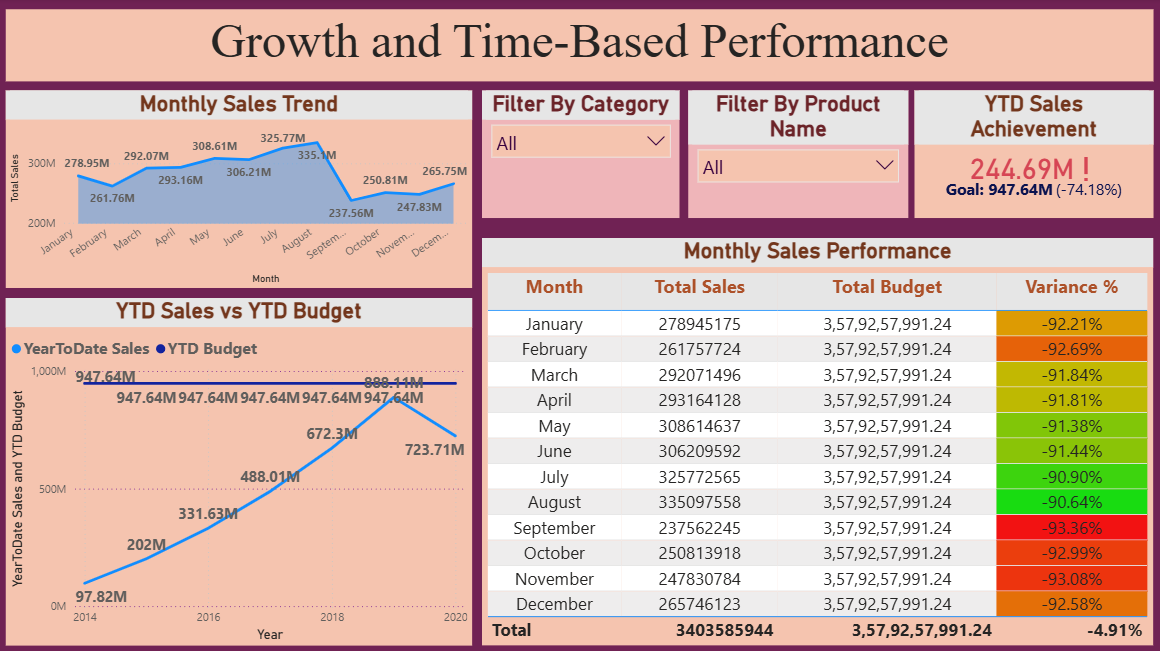

Layout of this report page (visuals, bound fields, positions):
{"tool":"powerbi","page":{"name":"Time Based Analysis","canvas":[1280,720],"ordinal":3},"visuals":[{"type":"textbox","box":[9.6,12.3,1259.7,79.6],"z":0},{"type":"tableEx","title":"Monthly Sales Performance","fields":{"Values":["Sales.Date.Variation.Date Hierarchy.Month","Sales.Total Sales","Budget.Total Budget","Sales.Variance %"]},"box":[532.4,263.5,736.9,447.3],"z":1000},{"type":"areaChart","title":"Monthly Sales Trend","fields":{"Y":["Sales.Total Sales"],"Category":["Sales.Date.Variation.Date Hierarchy.Month"]},"box":[9.6,101.5,511.8,216.8],"z":2000},{"type":"lineChart","title":"YTD Sales vs YTD Budget","fields":{"Category":["Sales.Date.Variation.Date Hierarchy.Year","Sales.Date.Variation.Date Hierarchy.Quarter","Sales.Date.Variation.Date Hierarchy.Month","Sales.Date.Variation.Date Hierarchy.Day"],"Y":["Sales.YearToDate Sales","Budget.YTD Budget"]},"box":[9.6,329.3,511.8,381.5],"z":3000},{"type":"kpi","title":"YTD Sales Achievement","fields":{"Goal":["Budget.YTD Budget"],"Indicator":["Sales.YearToDate Sales"],"TrendLine":["Sales.Date.Variation.Date Hierarchy.Quarter"]},"box":[1007.2,101.5,262.1,140],"z":4000},{"type":"slicer","title":"Filter By Category","fields":{"Values":["Product Master.Category"]},"box":[532.4,101.5,216.8,140],"z":5000},{"type":"slicer","title":"Filter By Product Name","fields":{"Values":["Product Master.Product Name"]},"box":[758.8,101.5,241.5,140],"z":6000}]}

Visuals, with their boxes in screenshot pixels (x1, y1, x2, y2), scaled from the page's 1280x720 canvas onto the 1160x651 screenshot:
textbox: select_region(9, 11, 1150, 83)
"Monthly Sales Performance" tableEx: select_region(482, 238, 1150, 643)
"Monthly Sales Trend" areaChart: select_region(9, 92, 473, 288)
"YTD Sales vs YTD Budget" lineChart: select_region(9, 298, 473, 643)
"YTD Sales Achievement" kpi: select_region(913, 92, 1150, 218)
"Filter By Category" slicer: select_region(482, 92, 679, 218)
"Filter By Product Name" slicer: select_region(688, 92, 907, 218)
